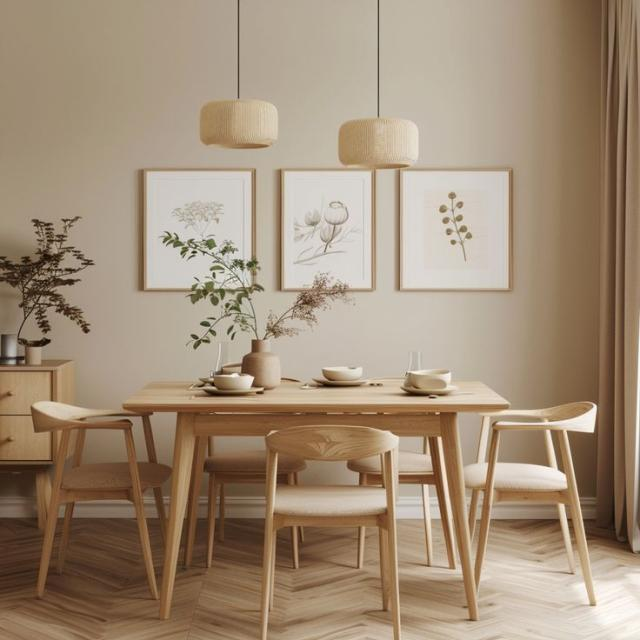obstacle: (122, 376, 510, 626), (259, 424, 402, 639), (30, 400, 172, 601), (464, 400, 598, 606), (347, 350, 456, 570), (199, 361, 307, 569)
